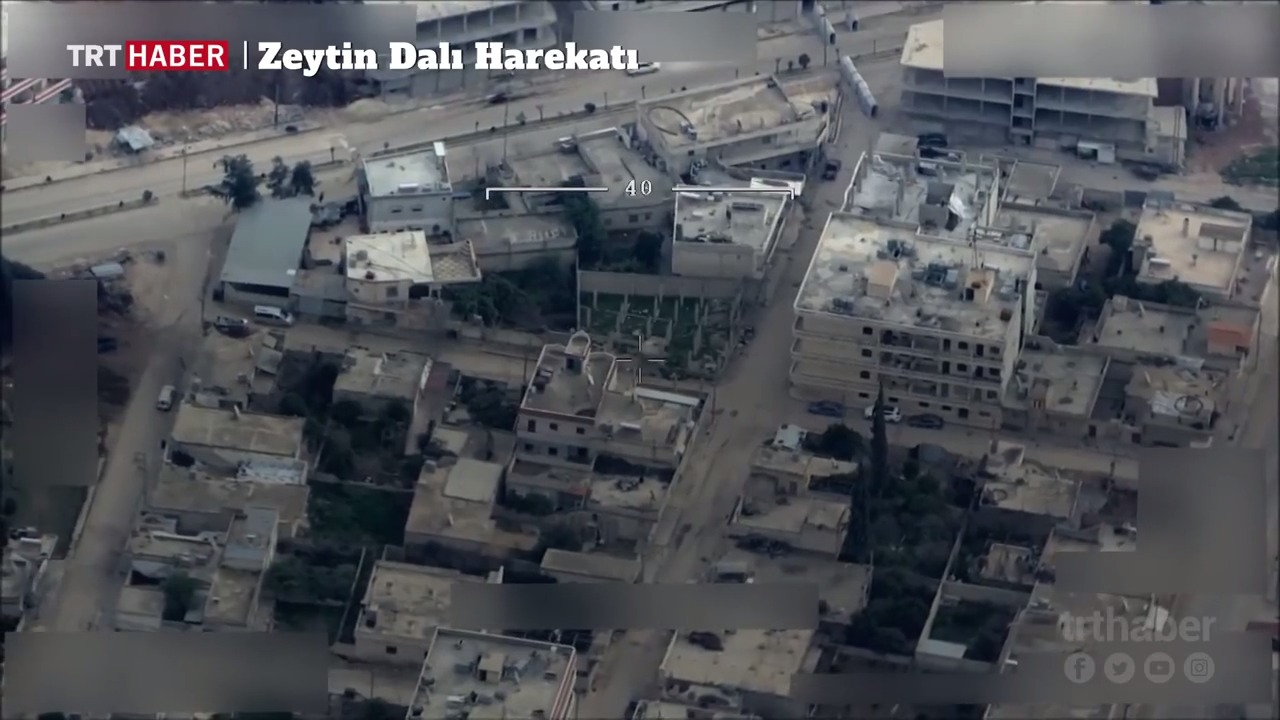arac: (860, 390, 918, 425), (243, 300, 303, 331), (903, 402, 959, 433), (146, 383, 191, 415), (803, 391, 850, 416), (907, 130, 954, 146)
